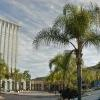Tree: (32, 2, 100, 91)
